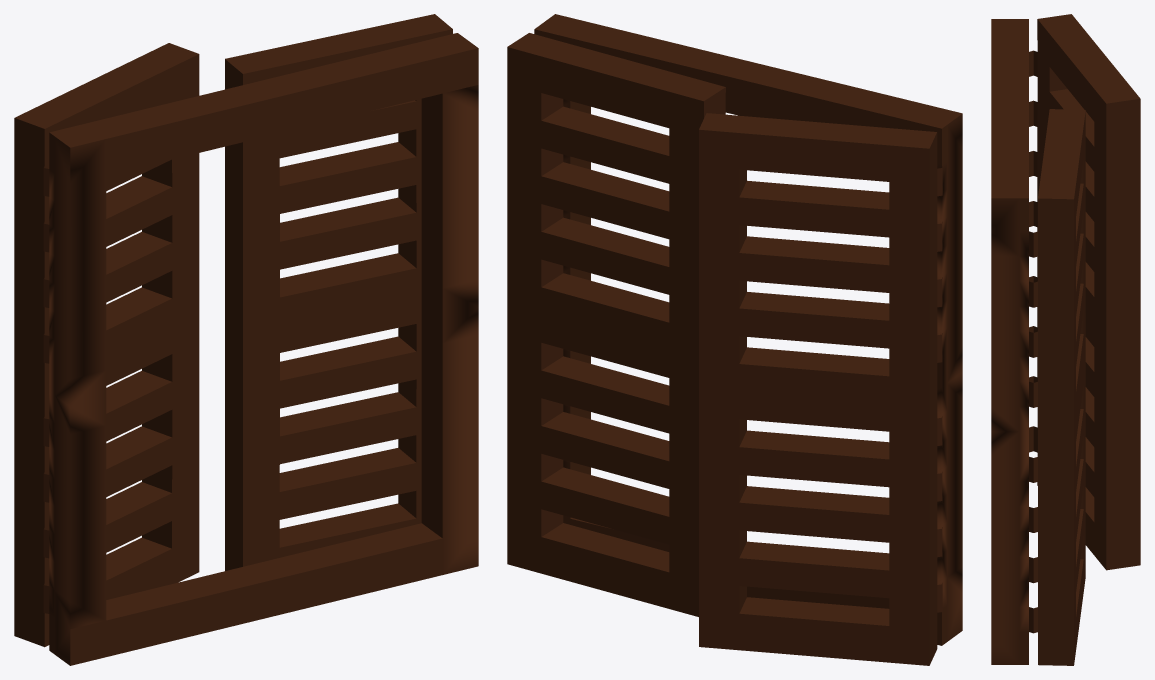
File: bea_window.fbx
The picture shows the model from 3 angles, left to right: view 1: azimuth 30°, elevation 25°; view 2: azimuth 150°, elevation 25°; view 3: azimuth 270°, elevation 25°; orthographic projection. The views are drawn at different scales.
Visible parts, largest first — view 1: window2; view 2: window2; view 3: window2.
Part boxes in pixels (bbox=[...]): window2: bbox=[14, 14, 478, 665]; window2: bbox=[507, 14, 962, 665]; window2: bbox=[991, 14, 1140, 665].
Size of the model in its own units: 244 by 286 by 82.75.
